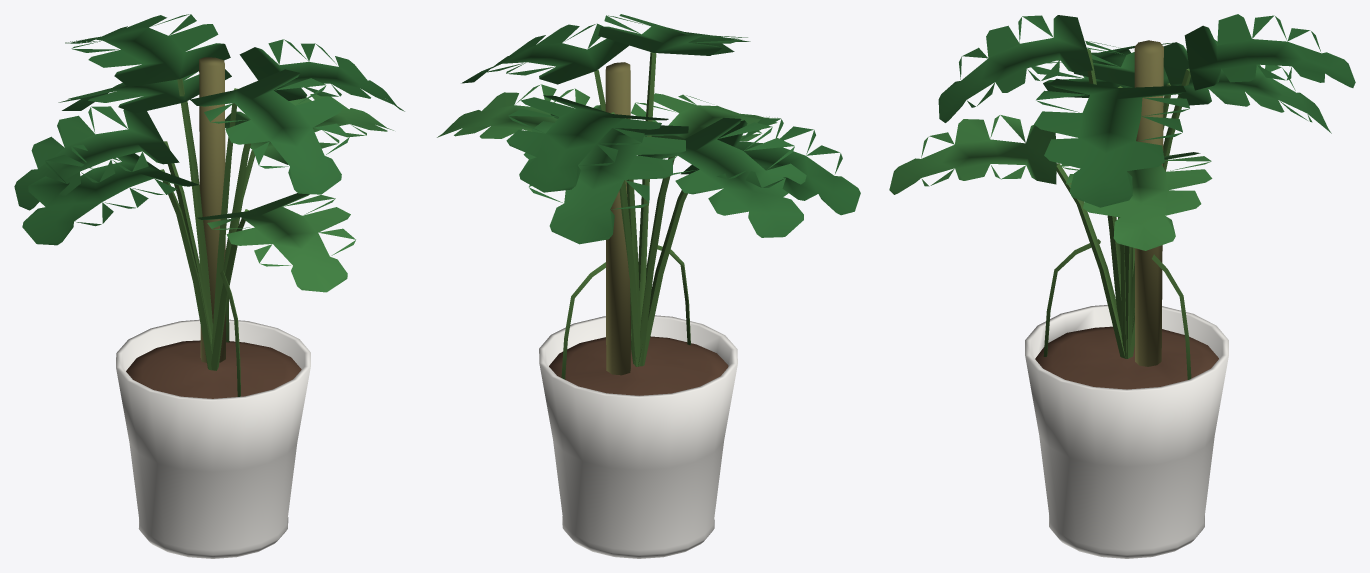
File: monstera.glb
3 renders of one model, left to right at view 1: azimuth 30°, elevation 25°; view 2: azimuth 150°, elevation 25°; view 3: azimuth 270°, elevation 25°, orthographic. The views are drawn at different scales.
Visible parts, largest first — view 1: monstera; view 2: monstera; view 3: monstera.
Boxes of the visible parts, x1,y1,x2,y2 form: monstera: [14, 14, 404, 558]; monstera: [437, 14, 860, 558]; monstera: [889, 14, 1355, 558].
Size of the model in its own units: 0.784 by 0.911 by 0.791.
